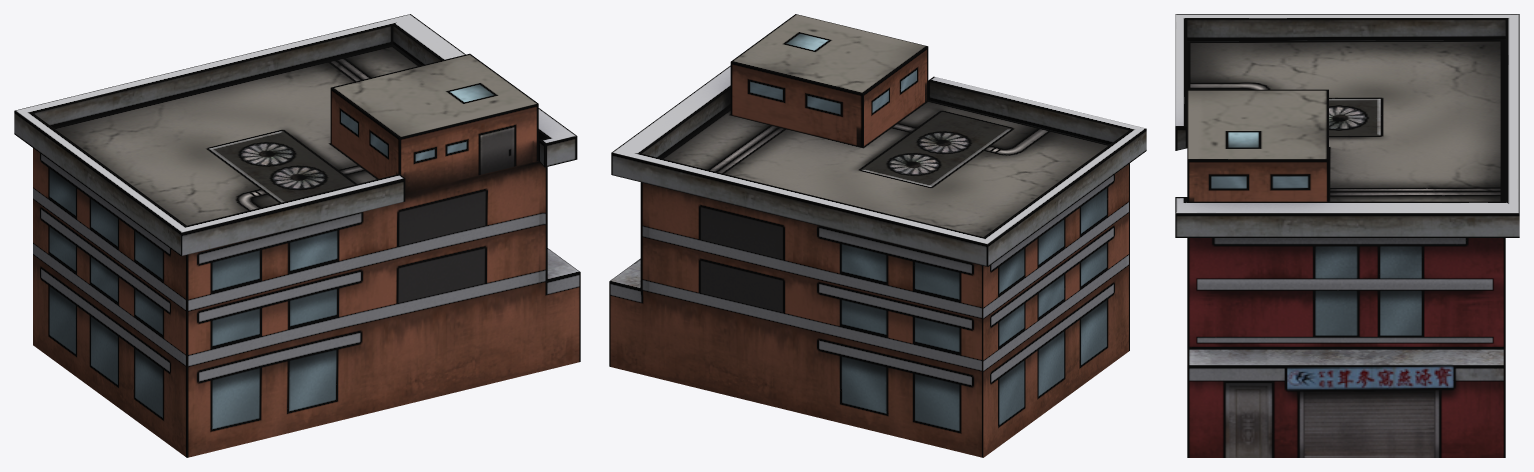
Rendered from house_10.FBX.
3 renders of one model, left to right at view 1: azimuth 30°, elevation 25°; view 2: azimuth 150°, elevation 25°; view 3: azimuth 270°, elevation 25°, orthographic. The views are drawn at different scales.
Parts seen in each view (by area): view 1: house_10; view 2: house_10; view 3: house_10.
Part boxes in pixels (bbox=[...]): house_10: bbox=[14, 14, 580, 457]; house_10: bbox=[609, 14, 1146, 457]; house_10: bbox=[1175, 14, 1519, 457].
Size of the model in its own units: 1566 by 991 by 1116.
